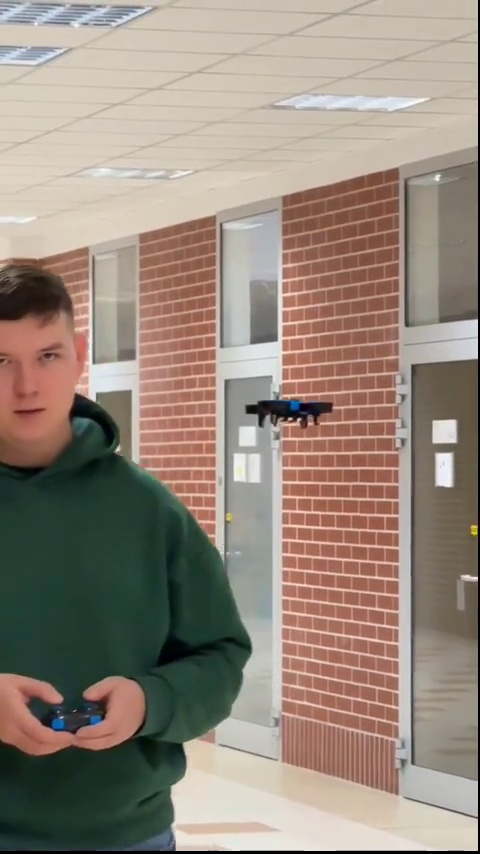drone: (244, 391, 332, 426)
no vest: (0, 252, 254, 835)
